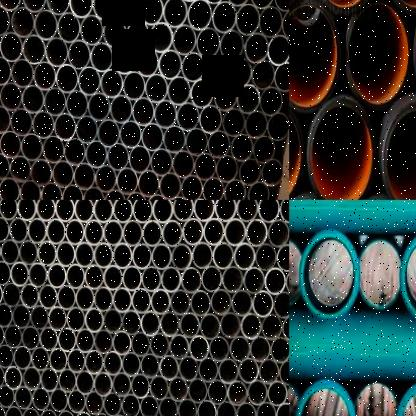pipe: (344, 0, 411, 112), (306, 96, 376, 200), (289, 0, 342, 113), (299, 232, 359, 317), (382, 101, 416, 199), (358, 238, 401, 310), (296, 383, 354, 416), (290, 96, 304, 200), (354, 383, 396, 416), (401, 236, 416, 322), (235, 2, 260, 36), (258, 5, 283, 39), (195, 26, 221, 58), (211, 0, 236, 33), (10, 6, 35, 38), (125, 19, 150, 51), (79, 14, 104, 46), (244, 31, 268, 64), (186, 0, 212, 30), (219, 30, 245, 60), (33, 9, 58, 40), (44, 36, 69, 67), (102, 17, 127, 48), (204, 54, 229, 85), (135, 46, 159, 78), (149, 21, 173, 53), (67, 39, 91, 70), (172, 24, 196, 55), (251, 59, 275, 90), (181, 51, 205, 82), (158, 49, 182, 80), (213, 81, 237, 112), (57, 11, 80, 43), (112, 45, 137, 74), (55, 63, 79, 93), (22, 34, 46, 64), (21, 84, 45, 114), (131, 96, 155, 126), (236, 84, 260, 114), (228, 57, 252, 87), (162, 124, 186, 154), (259, 86, 283, 116), (252, 134, 276, 164), (78, 65, 101, 96), (167, 75, 190, 106), (222, 107, 245, 138), (290, 237, 300, 308), (267, 33, 289, 65), (43, 87, 67, 116), (140, 122, 164, 151), (87, 92, 111, 121), (190, 79, 214, 108), (244, 110, 268, 139), (31, 110, 55, 139), (193, 152, 217, 181), (90, 42, 113, 72), (0, 31, 23, 61), (100, 68, 123, 98), (119, 119, 142, 149), (11, 58, 34, 88), (128, 144, 151, 174), (109, 94, 132, 124), (10, 107, 33, 137), (176, 101, 199, 131), (150, 147, 173, 177), (207, 129, 230, 159), (266, 111, 289, 141), (145, 73, 168, 103), (245, 218, 268, 248), (215, 155, 239, 183), (33, 61, 56, 90), (97, 118, 120, 147), (154, 99, 177, 128), (63, 137, 86, 166), (199, 104, 222, 133), (230, 133, 253, 162), (185, 127, 208, 156), (238, 157, 261, 186), (66, 89, 88, 119), (0, 81, 22, 111), (54, 112, 76, 142), (42, 134, 64, 164), (267, 218, 289, 248), (163, 0, 187, 27), (106, 143, 129, 171), (85, 140, 108, 168), (123, 71, 145, 100), (159, 171, 181, 200), (210, 288, 232, 317), (0, 129, 21, 159), (76, 115, 98, 143), (30, 158, 52, 186), (73, 162, 95, 190), (116, 167, 138, 195), (52, 160, 74, 188), (172, 150, 194, 178), (137, 169, 159, 197), (203, 218, 225, 246), (224, 218, 246, 246), (255, 243, 277, 271), (264, 267, 286, 295), (252, 290, 274, 318), (199, 312, 221, 340), (95, 164, 116, 193), (192, 241, 213, 270), (222, 265, 243, 294), (181, 265, 202, 294), (220, 311, 241, 340), (138, 0, 163, 24), (261, 159, 283, 186), (212, 242, 234, 269), (208, 335, 230, 362), (229, 335, 251, 362), (258, 358, 280, 385), (21, 133, 42, 161), (10, 155, 31, 183), (183, 218, 204, 246), (122, 219, 143, 247), (162, 219, 183, 247), (234, 242, 255, 270), (201, 265, 222, 293), (243, 266, 264, 294), (231, 289, 252, 317), (190, 289, 211, 317), (179, 311, 200, 339), (249, 335, 270, 363), (238, 357, 259, 385), (218, 357, 239, 385), (181, 174, 203, 200), (112, 242, 133, 269), (171, 243, 192, 270), (261, 313, 282, 340), (178, 355, 199, 382), (227, 379, 248, 406), (9, 216, 29, 244), (27, 217, 47, 245), (65, 218, 85, 246), (103, 219, 123, 247), (132, 242, 152, 270), (152, 242, 172, 270), (141, 265, 161, 293), (131, 287, 151, 315), (160, 310, 180, 338), (241, 312, 261, 340), (140, 310, 161, 336), (198, 357, 219, 383), (267, 380, 288, 406), (46, 218, 66, 245), (84, 219, 104, 246), (142, 220, 162, 247), (56, 240, 76, 267), (103, 264, 123, 291), (122, 265, 142, 292), (161, 266, 181, 293), (151, 288, 171, 315), (170, 289, 190, 316), (169, 333, 189, 360), (189, 334, 209, 361), (121, 350, 141, 377), (159, 354, 179, 381), (207, 378, 227, 405), (247, 379, 267, 406), (94, 241, 113, 269), (115, 0, 139, 22), (37, 240, 57, 266), (38, 284, 58, 310), (150, 332, 170, 358), (168, 376, 188, 402), (188, 377, 208, 403), (19, 239, 38, 266), (75, 241, 94, 268), (66, 263, 85, 290), (57, 284, 76, 311), (270, 336, 289, 363), (85, 348, 104, 375), (103, 349, 122, 376), (223, 178, 246, 200), (235, 200, 258, 222), (202, 176, 223, 200), (28, 262, 48, 287), (47, 263, 67, 288), (57, 327, 77, 352), (75, 328, 95, 353), (112, 330, 132, 355), (93, 371, 113, 396), (112, 372, 132, 397), (130, 373, 150, 398), (85, 264, 104, 290), (2, 282, 21, 308), (20, 283, 39, 309), (75, 285, 94, 311), (94, 286, 113, 312), (113, 287, 132, 313), (12, 303, 31, 329), (30, 304, 49, 330), (48, 305, 67, 331), (66, 306, 85, 332), (85, 307, 104, 333), (103, 308, 122, 334), (122, 309, 141, 335), (39, 326, 58, 352), (131, 331, 150, 357), (140, 353, 159, 379), (22, 365, 41, 391), (58, 367, 77, 393), (150, 374, 169, 400), (1, 238, 19, 265), (258, 200, 279, 223), (152, 200, 173, 223), (92, 0, 116, 20), (120, 392, 140, 416), (94, 329, 113, 354), (49, 347, 68, 372), (4, 365, 23, 390), (31, 387, 50, 412), (67, 389, 86, 414), (11, 261, 29, 287), (76, 369, 94, 395), (85, 390, 103, 416), (102, 390, 120, 416), (19, 179, 41, 200), (172, 200, 194, 221), (214, 200, 236, 221), (246, 180, 269, 200), (93, 200, 113, 223), (133, 200, 153, 223), (138, 393, 158, 416), (13, 345, 32, 369), (274, 61, 289, 91), (4, 324, 22, 349), (22, 325, 40, 350), (31, 346, 49, 371), (67, 348, 85, 373), (40, 367, 58, 392), (50, 388, 68, 413), (273, 291, 289, 319), (194, 200, 215, 221), (0, 176, 19, 199), (113, 200, 132, 223), (15, 385, 32, 410), (36, 200, 56, 221), (55, 200, 74, 222), (74, 200, 93, 222), (176, 396, 196, 416), (17, 200, 36, 221), (158, 395, 177, 416), (40, 182, 62, 200), (69, 0, 92, 17), (276, 242, 289, 272), (0, 383, 14, 408), (0, 200, 17, 220), (46, 0, 70, 14), (62, 184, 83, 200), (216, 400, 237, 416), (197, 399, 216, 416), (0, 56, 11, 85), (0, 104, 11, 133), (235, 401, 256, 416), (0, 302, 12, 328), (0, 343, 13, 367), (0, 5, 10, 36), (21, 0, 46, 12), (83, 186, 104, 200), (256, 401, 275, 416), (0, 260, 11, 285), (279, 358, 289, 385), (281, 7, 289, 40), (0, 152, 9, 180), (0, 216, 9, 243), (103, 189, 125, 200), (279, 200, 289, 223), (281, 314, 289, 342), (250, 0, 274, 9), (0, 0, 21, 10), (273, 0, 289, 12), (21, 406, 40, 416), (125, 191, 146, 200), (5, 405, 22, 416), (276, 402, 289, 416), (225, 0, 251, 6), (146, 193, 168, 200), (40, 408, 57, 416), (57, 409, 75, 416), (0, 363, 5, 388), (74, 410, 92, 416), (0, 323, 4, 347), (92, 412, 110, 416), (0, 403, 5, 416), (110, 413, 129, 416), (0, 281, 2, 306)
